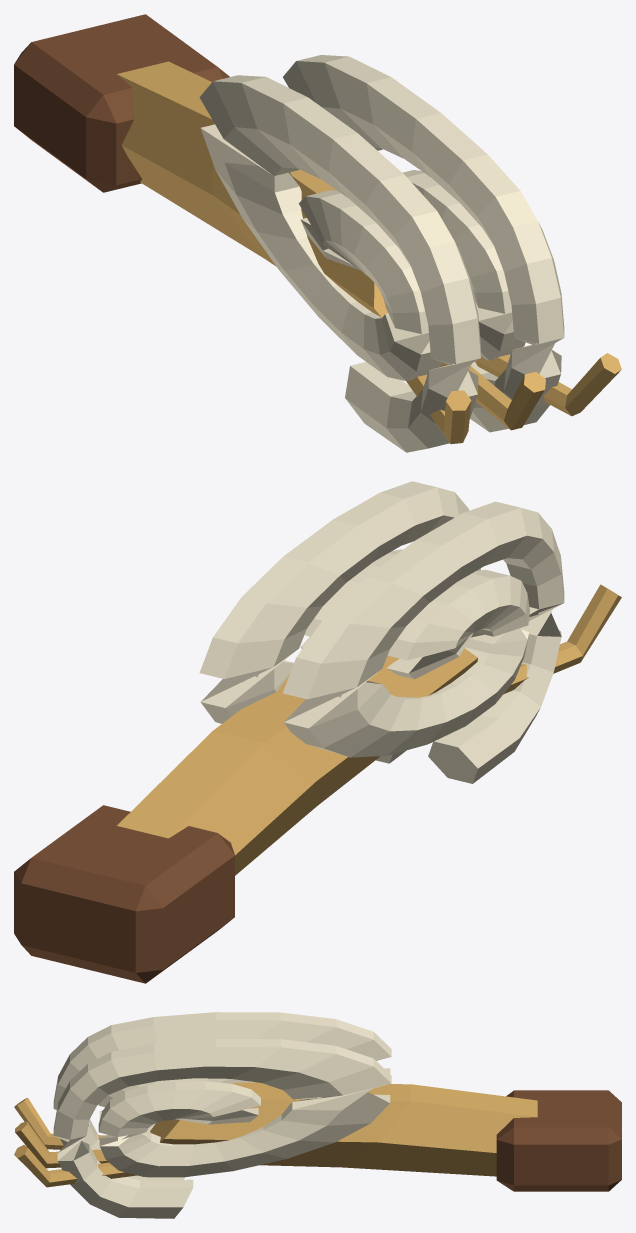
Rendered from nautilus.glb.
3 views of the same model, one above another, from view 1: azimuth 30°, elevation 25°; view 2: azimuth 150°, elevation 25°; view 3: azimuth 270°, elevation 25° (orthographic). The views are drawn at different scales.
Visible parts, largest first — view 1: Ivory spiral shell, Ivory spiral shell.001, Stem saddle.001, Nautilus base, Nautilus tendril.002, Nautilus tendril.001, Nautilus tendril; view 2: Ivory spiral shell, Stem saddle.001, Nautilus base, Ivory spiral shell.001, Nautilus tendril; view 3: Ivory spiral shell.001, Nautilus base, Stem saddle.001, Ivory spiral shell, Nautilus tendril.002, Nautilus tendril.001, Nautilus tendril.
Boxes of the visible parts, x1,y1,x2,y2 form: Ivory spiral shell: (199, 75, 480, 452); Ivory spiral shell.001: (283, 55, 564, 432); Stem saddle.001: (14, 14, 229, 192); Nautilus base: (117, 61, 387, 317); Nautilus tendril.002: (475, 353, 621, 416); Nautilus tendril.001: (440, 362, 545, 430); Nautilus tendril: (406, 374, 471, 444); Ivory spiral shell: (283, 501, 564, 783); Stem saddle.001: (14, 805, 234, 983); Nautilus base: (117, 648, 477, 875); Ivory spiral shell.001: (199, 481, 480, 763); Nautilus tendril: (503, 584, 621, 694); Ivory spiral shell.001: (53, 1039, 391, 1218); Nautilus base: (150, 1082, 537, 1176); Stem saddle.001: (496, 1090, 621, 1191); Ivory spiral shell: (53, 1012, 391, 1180); Nautilus tendril.002: (14, 1144, 136, 1187); Nautilus tendril.001: (15, 1121, 108, 1168); Nautilus tendril: (14, 1098, 105, 1149).
Size of the model in its own units: 0.4972 by 0.7198 by 2.31.
